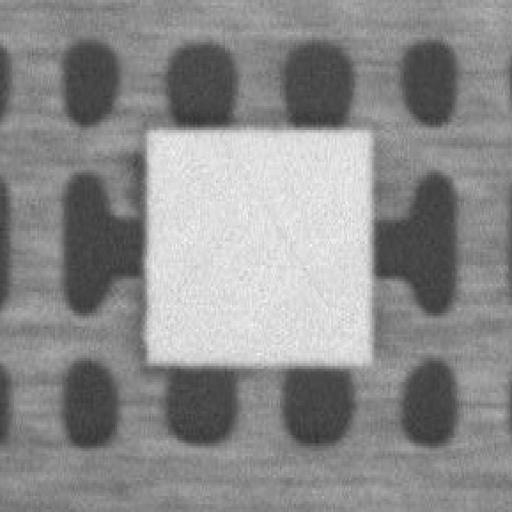DIE_CRACK: (326, 89, 488, 202)
